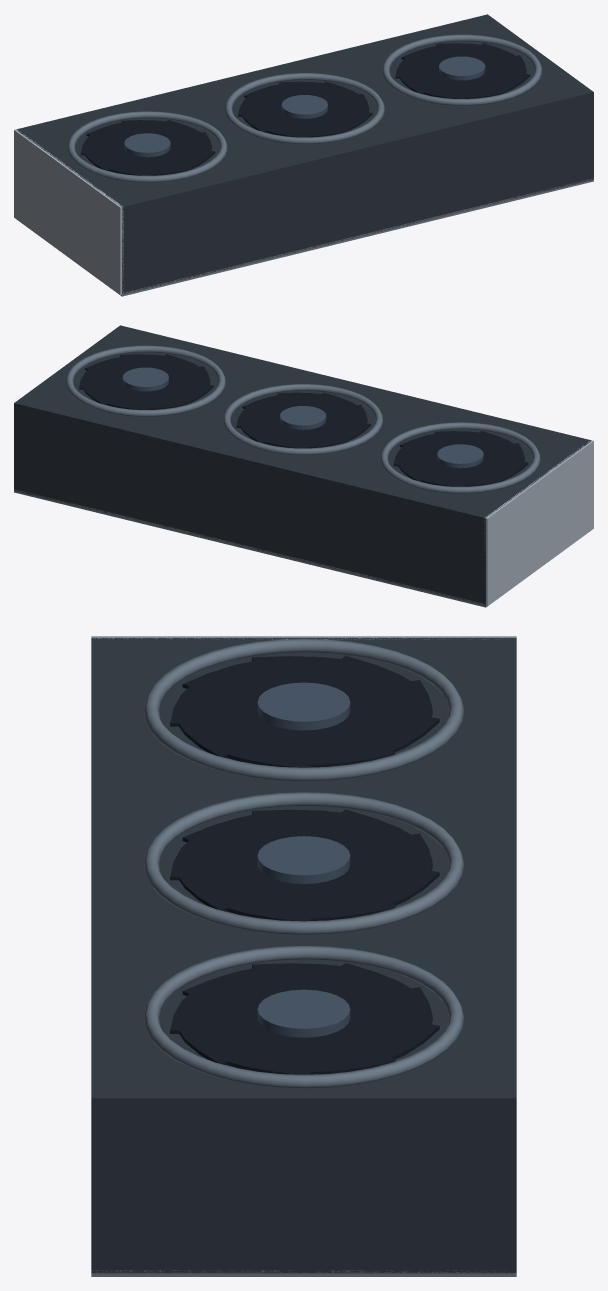
Rendered from retail-gigabyte-geforce-rtx-5070-windforce-oc-sff-12g.glb.
The picture shows the model from 3 angles, top to bottom: view 1: azimuth 30°, elevation 25°; view 2: azimuth 150°, elevation 25°; view 3: azimuth 270°, elevation 25°; orthographic projection. The views are drawn at different scales.
Visible parts, largest first — view 1: Cooler shroud, Cooler blade (×26), Bracket, Fan rim (×3), Fan hub (×3), Backplate; view 2: Cooler shroud, Cooler blade (×27), Bracket, Fan rim (×3), Fan hub (×3), Backplate; view 3: Cooler shroud, Cooler blade (×27), Fan rim (×3), Fan hub (×3), Backplate, Bracket.
Part boxes in pixels (<box>): Cooler shroud: <box>16,14,593,294</box>; Cooler blade (×26): <box>80,43,529,175</box>; Bracket: <box>14,129,123,295</box>; Fan rim (×3): <box>67,34,542,182</box>; Fan hub (×3): <box>124,56,485,157</box>; Backplate: <box>22,178,593,296</box>; Cooler shroud: <box>14,325,591,605</box>; Cooler blade (×27): <box>79,354,528,486</box>; Bracket: <box>484,440,593,606</box>; Fan rim (×3): <box>65,345,540,493</box>; Fan hub (×3): <box>122,367,483,468</box>; Backplate: <box>14,489,585,607</box>; Cooler shroud: <box>91,637,516,1273</box>; Cooler blade (×27): <box>170,656,439,1074</box>; Fan rim (×3): <box>143,638,464,1088</box>; Fan hub (×3): <box>257,682,350,1037</box>; Backplate: <box>91,1270,516,1276</box>; Bracket: <box>91,636,516,639</box>.
Size of the model in its own units: 0.283 by 0.0545 by 0.11.
